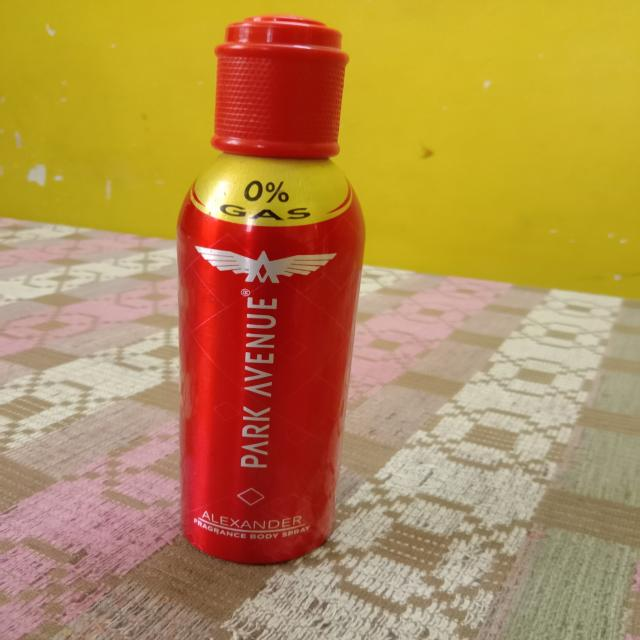deodorant: (176, 18, 368, 562)
